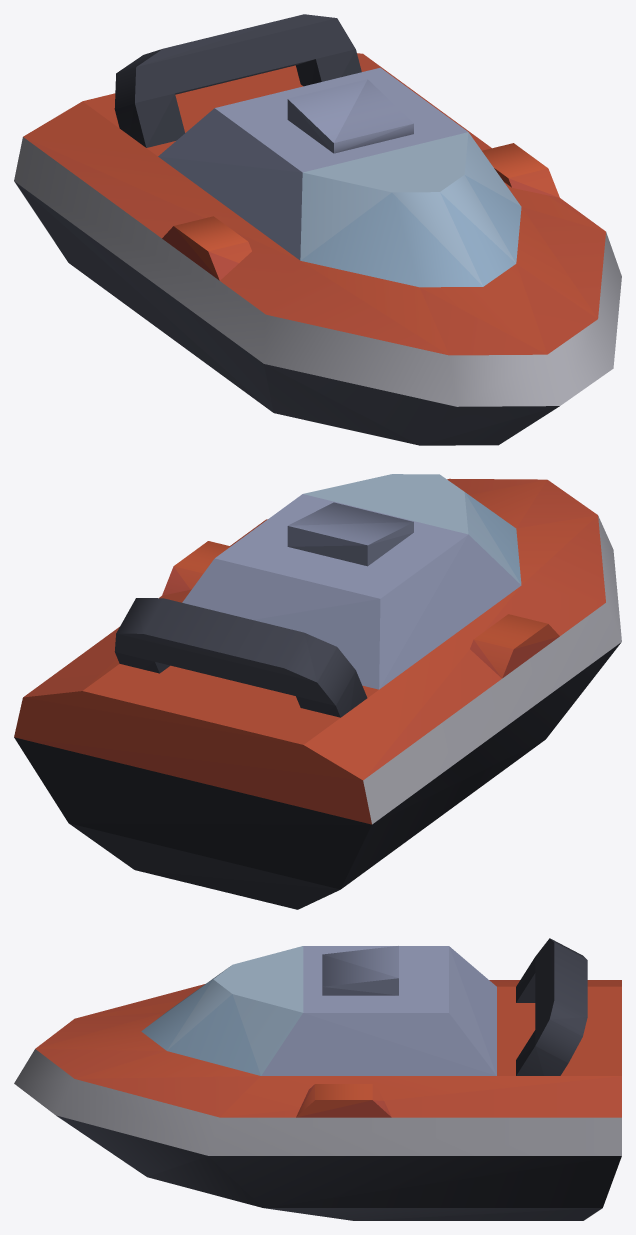
Rendered from watercraft_boat_speed_c.glb.
The picture shows the model from 3 angles, top to bottom: view 1: azimuth 30°, elevation 25°; view 2: azimuth 150°, elevation 25°; view 3: azimuth 270°, elevation 25°; orthographic projection. The views are drawn at different scales.
Parts seen in each view (by area): view 1: watercraft_boat_speed_c; view 2: watercraft_boat_speed_c; view 3: watercraft_boat_speed_c.
Boxes of the visible parts, x1=… form: watercraft_boat_speed_c: x1=14, y1=14, x2=621, y2=445; watercraft_boat_speed_c: x1=14, y1=474, x2=621, y2=909; watercraft_boat_speed_c: x1=14, y1=938, x2=621, y2=1220.
Size of the model in its own units: 1.78 by 1.3 by 3.17.
